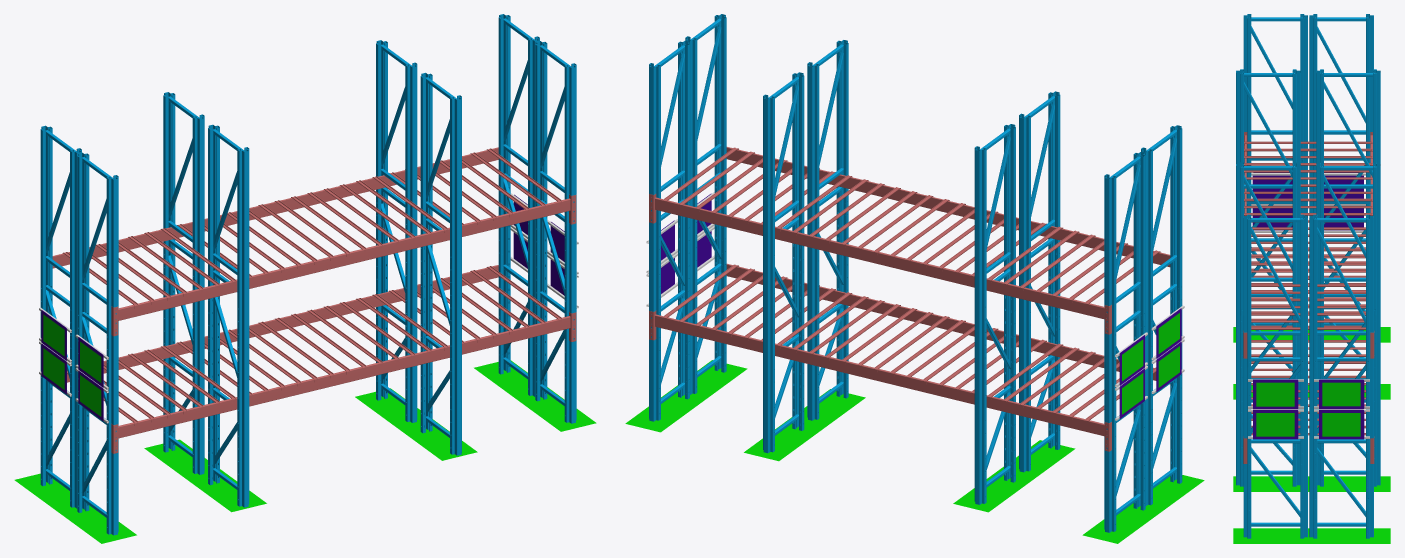
File: shelfLarge.fbx
The picture shows the model from 3 angles, left to right: view 1: azimuth 30°, elevation 25°; view 2: azimuth 150°, elevation 25°; view 3: azimuth 270°, elevation 25°; orthographic projection. The views are drawn at different scales.
Parts seen in each view (by area): view 1: main_structural_01, grills, levels_01, sign, decals, decal_shdw_01, decal_shdw_04, decal_shdw_03, decal_shdw_02, sign_bars; view 2: main_structural_01, grills, levels_01, sign, decals, decal_shdw_01, decal_shdw_03, decal_shdw_04, decal_shdw_02, sign_bars; view 3: main_structural_01, grills, sign, decals, decal_shdw_04, decal_shdw_03, sign_bars, levels_01, decal_shdw_01, decal_shdw_02.
Boxes of the visible parts, bbox=[...] form: main_structural_01: bbox=[40, 14, 576, 535]; grills: bbox=[62, 148, 562, 426]; levels_01: bbox=[52, 147, 576, 453]; sign: bbox=[41, 194, 564, 421]; decals: bbox=[43, 314, 101, 416]; decal_shdw_01: bbox=[14, 473, 136, 543]; decal_shdw_04: bbox=[474, 360, 596, 431]; decal_shdw_03: bbox=[355, 388, 477, 460]; decal_shdw_02: bbox=[144, 439, 266, 512]; sign_bars: bbox=[39, 193, 578, 423]; main_structural_01: bbox=[649, 14, 1182, 532]; grills: bbox=[663, 147, 1160, 423]; levels_01: bbox=[649, 147, 1170, 451]; sign: bbox=[661, 193, 1181, 418]; decals: bbox=[1122, 313, 1179, 414]; decal_shdw_01: bbox=[1082, 475, 1204, 543]; decal_shdw_03: bbox=[744, 389, 865, 461]; decal_shdw_04: bbox=[625, 360, 747, 432]; decal_shdw_02: bbox=[953, 440, 1075, 512]; sign_bars: bbox=[646, 192, 1184, 420]; main_structural_01: bbox=[1236, 14, 1380, 538]; grills: bbox=[1244, 141, 1372, 435]; sign: bbox=[1252, 172, 1364, 439]; decals: bbox=[1256, 382, 1360, 436]; decal_shdw_04: bbox=[1233, 528, 1390, 543]; decal_shdw_03: bbox=[1233, 476, 1390, 491]; sign_bars: bbox=[1248, 173, 1369, 438]; levels_01: bbox=[1243, 132, 1374, 463]; decal_shdw_01: bbox=[1233, 327, 1390, 342]; decal_shdw_02: bbox=[1233, 384, 1390, 399].
Bounding box in the file's own units: 1272 × 873 × 389.
